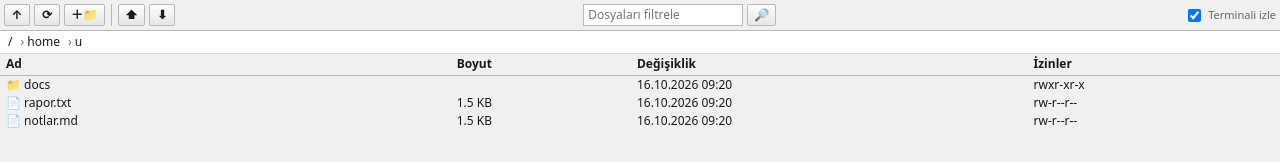
renaming to a name with a slash is refused
Step 1. Click the text "rapor.txt" → (48, 102), box top-left (0, 94), bottom-right (451, 112)
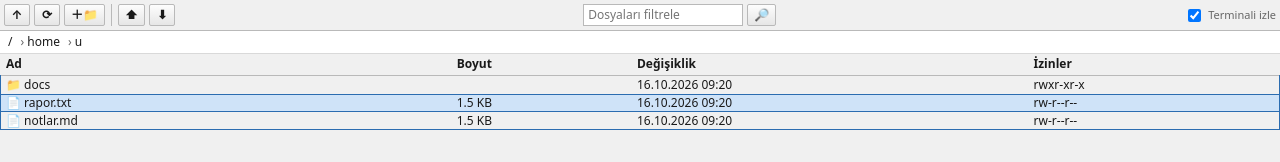
Step 2. Press F2
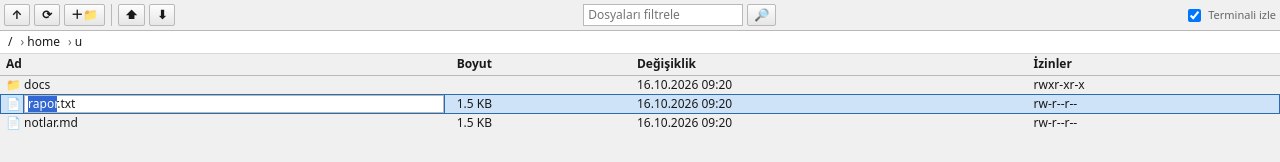
Step 3. Replace the text in the field named "Yeni ad" with "a/b" → (234, 104), box top-left (24, 95), bottom-right (444, 113)
Then press Enter
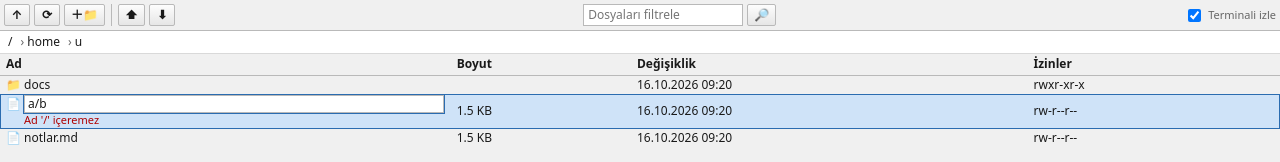
Now the text "Ad '/' içeremez" is shown, box top-left (24, 112), bottom-right (99, 127)
